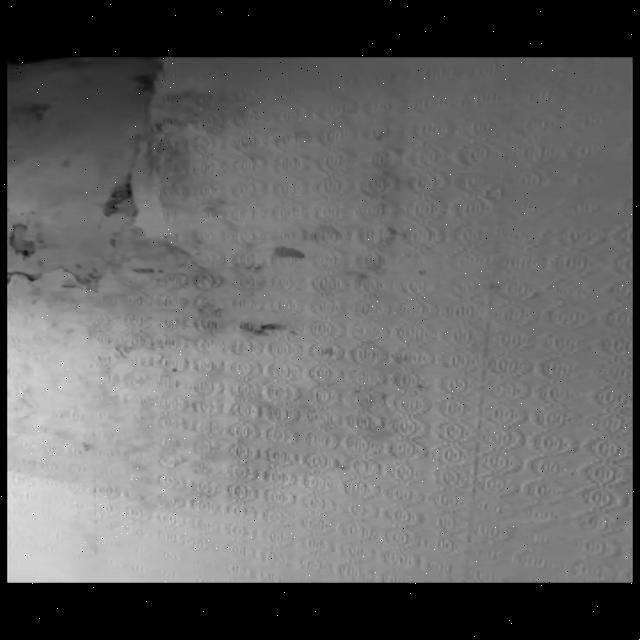stain marks: (6, 60, 485, 523)
